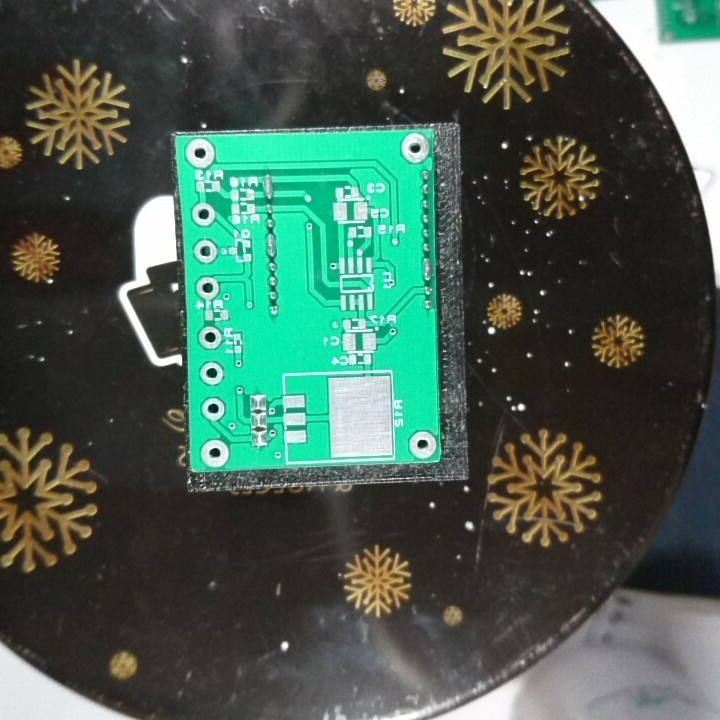F: (397, 130, 432, 166), (183, 136, 218, 170), (405, 428, 439, 459), (198, 438, 232, 467), (194, 323, 224, 352), (188, 200, 217, 229), (191, 237, 220, 266), (197, 360, 227, 386), (198, 395, 228, 421), (193, 274, 221, 300)
P: (262, 232, 280, 260), (260, 172, 277, 201), (419, 255, 434, 283)
